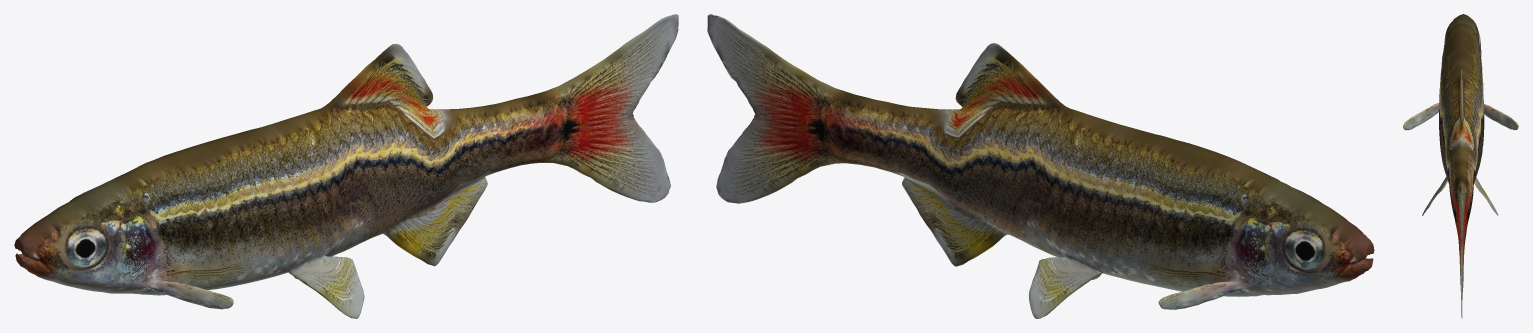
The model's file is meshy_tanichthys_textured_by_projection.glb.
The picture shows the model from 3 angles, left to right: view 1: azimuth 30°, elevation 25°; view 2: azimuth 150°, elevation 25°; view 3: azimuth 270°, elevation 25°; orthographic projection. The views are drawn at different scales.
Visible parts, largest first — view 1: tanichthys_tex; view 2: tanichthys_tex; view 3: tanichthys_tex.
Part boxes in pixels (x1,y1,x2,y2): tanichthys_tex: [14, 14, 678, 318]; tanichthys_tex: [707, 14, 1374, 318]; tanichthys_tex: [1403, 14, 1518, 318].
Bounding box in the file's own units: 1 × 0.3468 × 0.2161.
1 material, 1 textured.
